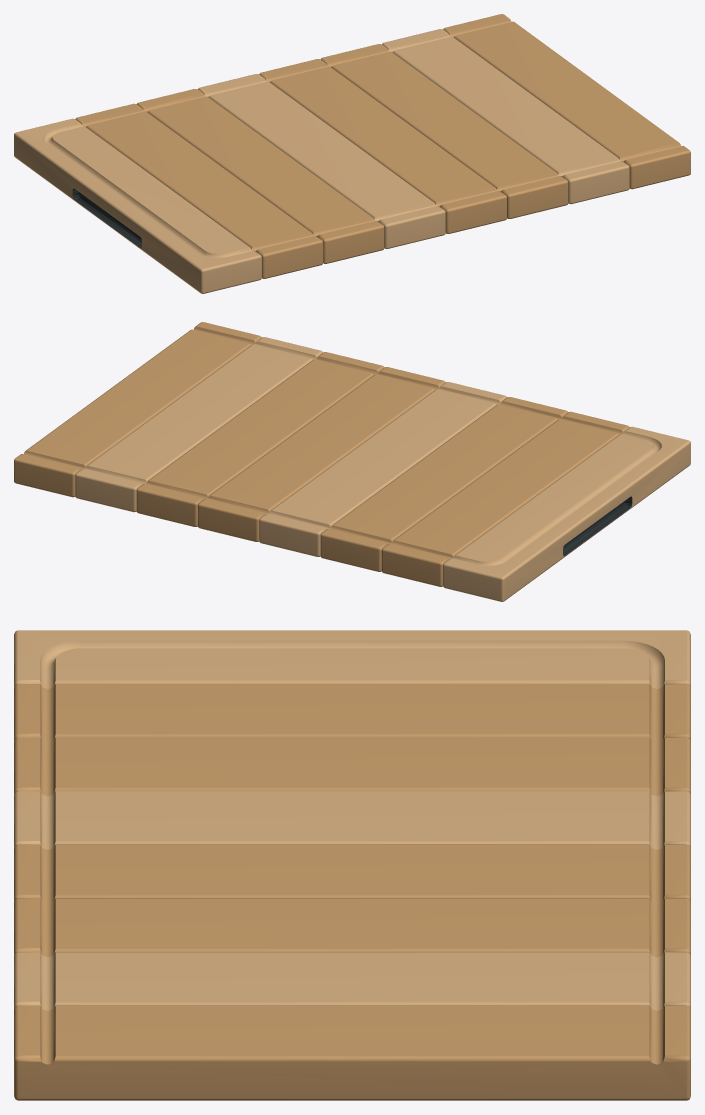
The model's file is kitchen-cutting-board.glb.
3 renders of one model, top to bottom at view 1: azimuth 30°, elevation 25°; view 2: azimuth 150°, elevation 25°; view 3: azimuth 270°, elevation 25°, orthographic. The views are drawn at different scales.
Parts seen in each view (by area): view 1: kitchen-cutting-board authored assembly; view 2: kitchen-cutting-board authored assembly; view 3: kitchen-cutting-board authored assembly.
Part boxes in pixels (<box>): kitchen-cutting-board authored assembly: <box>14,14,690,293</box>; kitchen-cutting-board authored assembly: <box>14,322,690,601</box>; kitchen-cutting-board authored assembly: <box>14,630,690,1100</box>.
Size of the model in its own units: 0.45 by 0.022 by 0.3.
